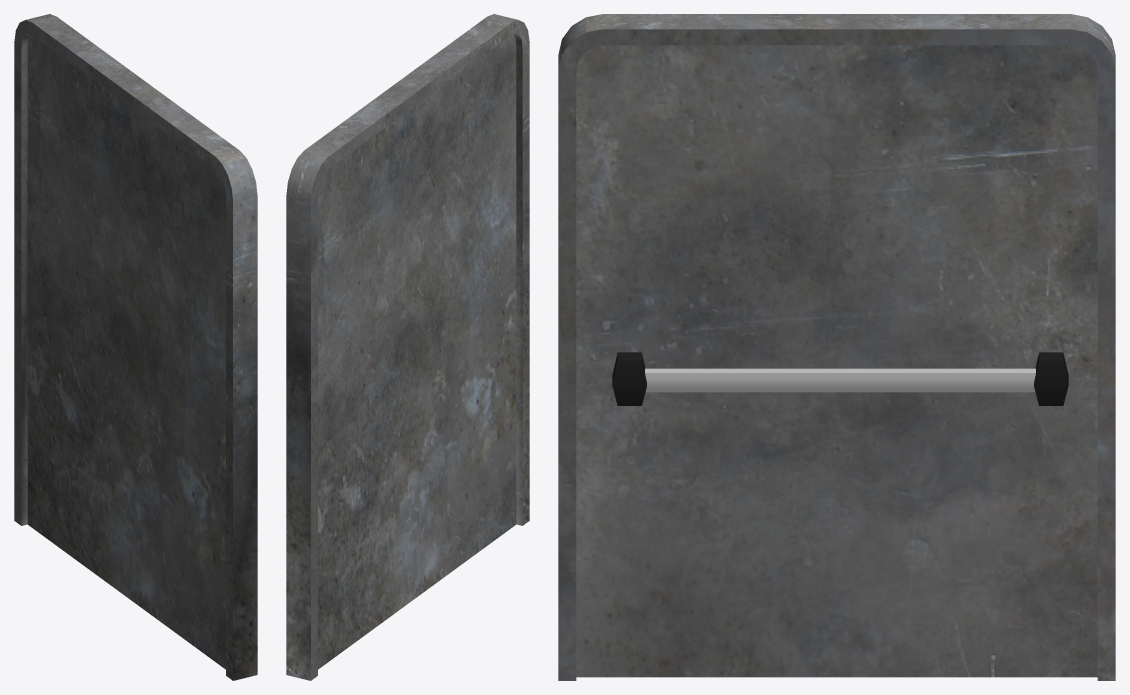
File: Porta_Uscita.fbx
The picture shows the model from 3 angles, left to right: view 1: azimuth 30°, elevation 25°; view 2: azimuth 150°, elevation 25°; view 3: azimuth 270°, elevation 25°; orthographic projection. The views are drawn at different scales.
Visible parts, largest first — view 1: Porta_Uscita; view 2: Porta_Uscita; view 3: Porta_Uscita, Barra_Maniglione, Fermi_Maniglione.
Boxes of the visible parts, box(x1,y1,x2,y2) form: Porta_Uscita: box(14, 14, 257, 680); Porta_Uscita: box(286, 14, 529, 680); Porta_Uscita: box(558, 14, 1115, 680); Barra_Maniglione: box(645, 368, 1035, 392); Fermi_Maniglione: box(612, 352, 1068, 405).
Size of the model in its own units: 18.05 by 250 by 194.
Materials: 3 (1 with a texture image).
